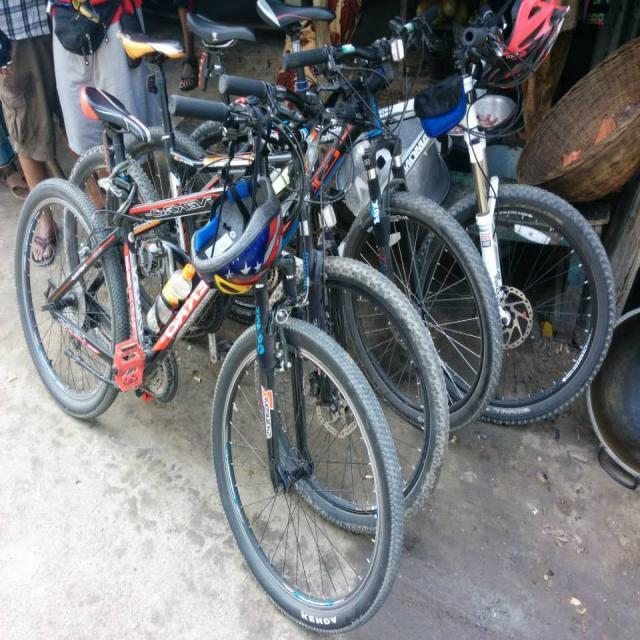Bicycle: (8, 73, 411, 633), (166, 1, 615, 492), (48, 62, 459, 557), (106, 6, 500, 477)
